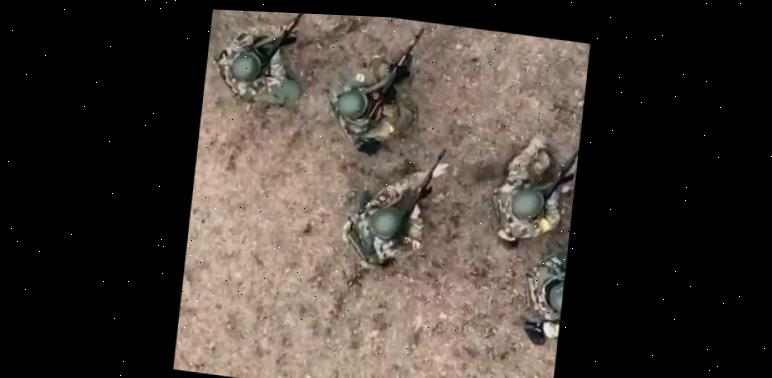person: (338, 133, 451, 277), (324, 15, 428, 159), (486, 117, 581, 255), (208, 9, 315, 110), (517, 235, 569, 346)
